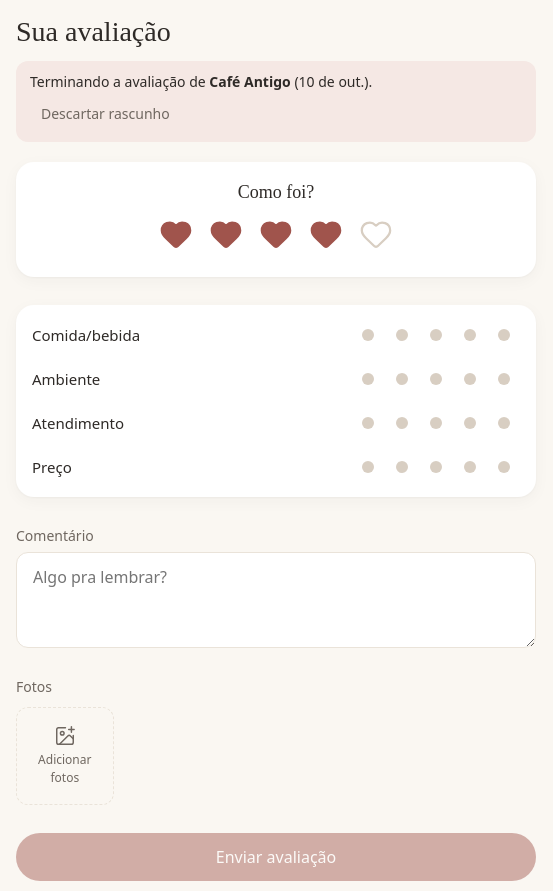
Test case: dá pra descartar o rascunho e começar outra visita
The width and height of the screenshot is (553, 891).
Click the button "Descartar rascunho" at (105, 114), box [30, 96, 181, 132]
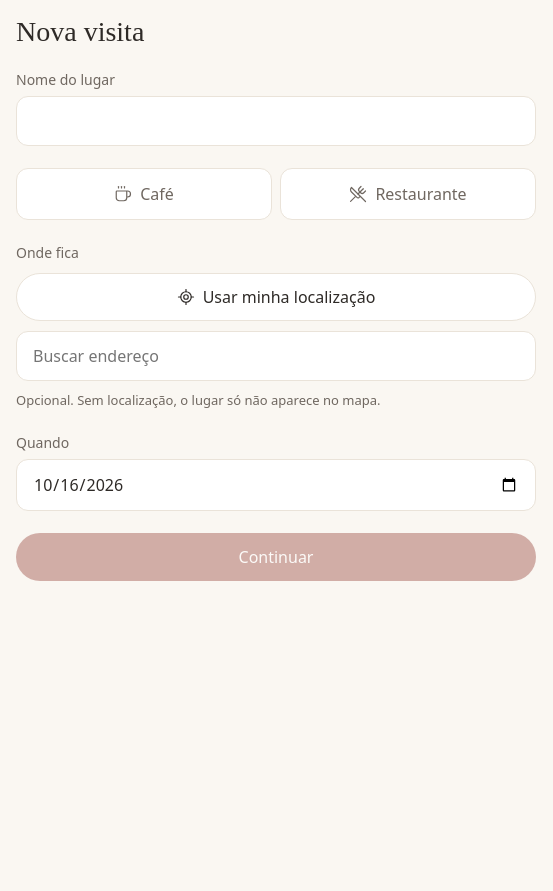
Expected: the heading "Nova visita" is shown, [16, 16, 144, 47]
Expected: the field labelled "Nome do lugar" is empty, [16, 96, 536, 146]
